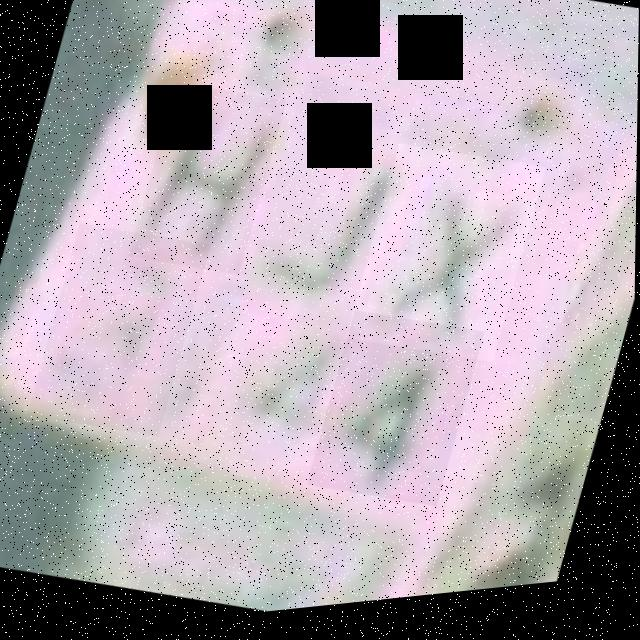4: (207, 279, 395, 495), (307, 307, 485, 526)
6: (28, 215, 211, 450), (115, 252, 279, 466)
H: (128, 77, 287, 289)
J: (226, 96, 433, 339)
X: (346, 140, 547, 385)
